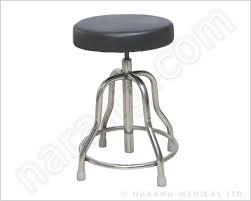stool: (72, 13, 179, 186)
